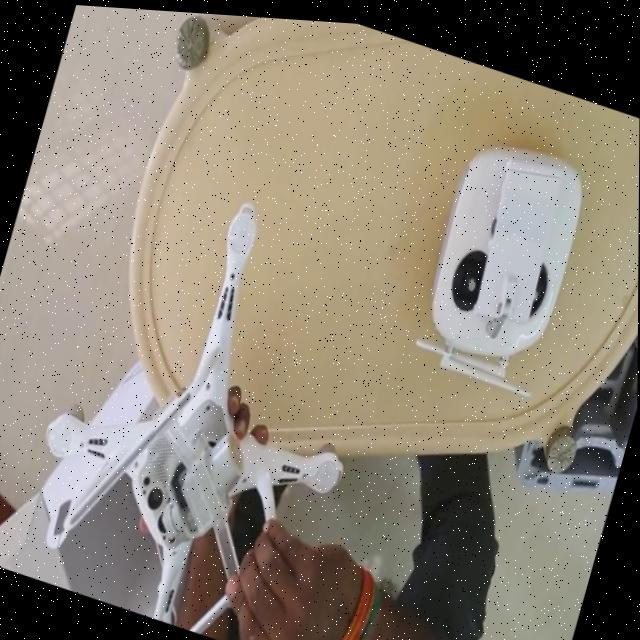drones: (0, 97, 431, 640)
